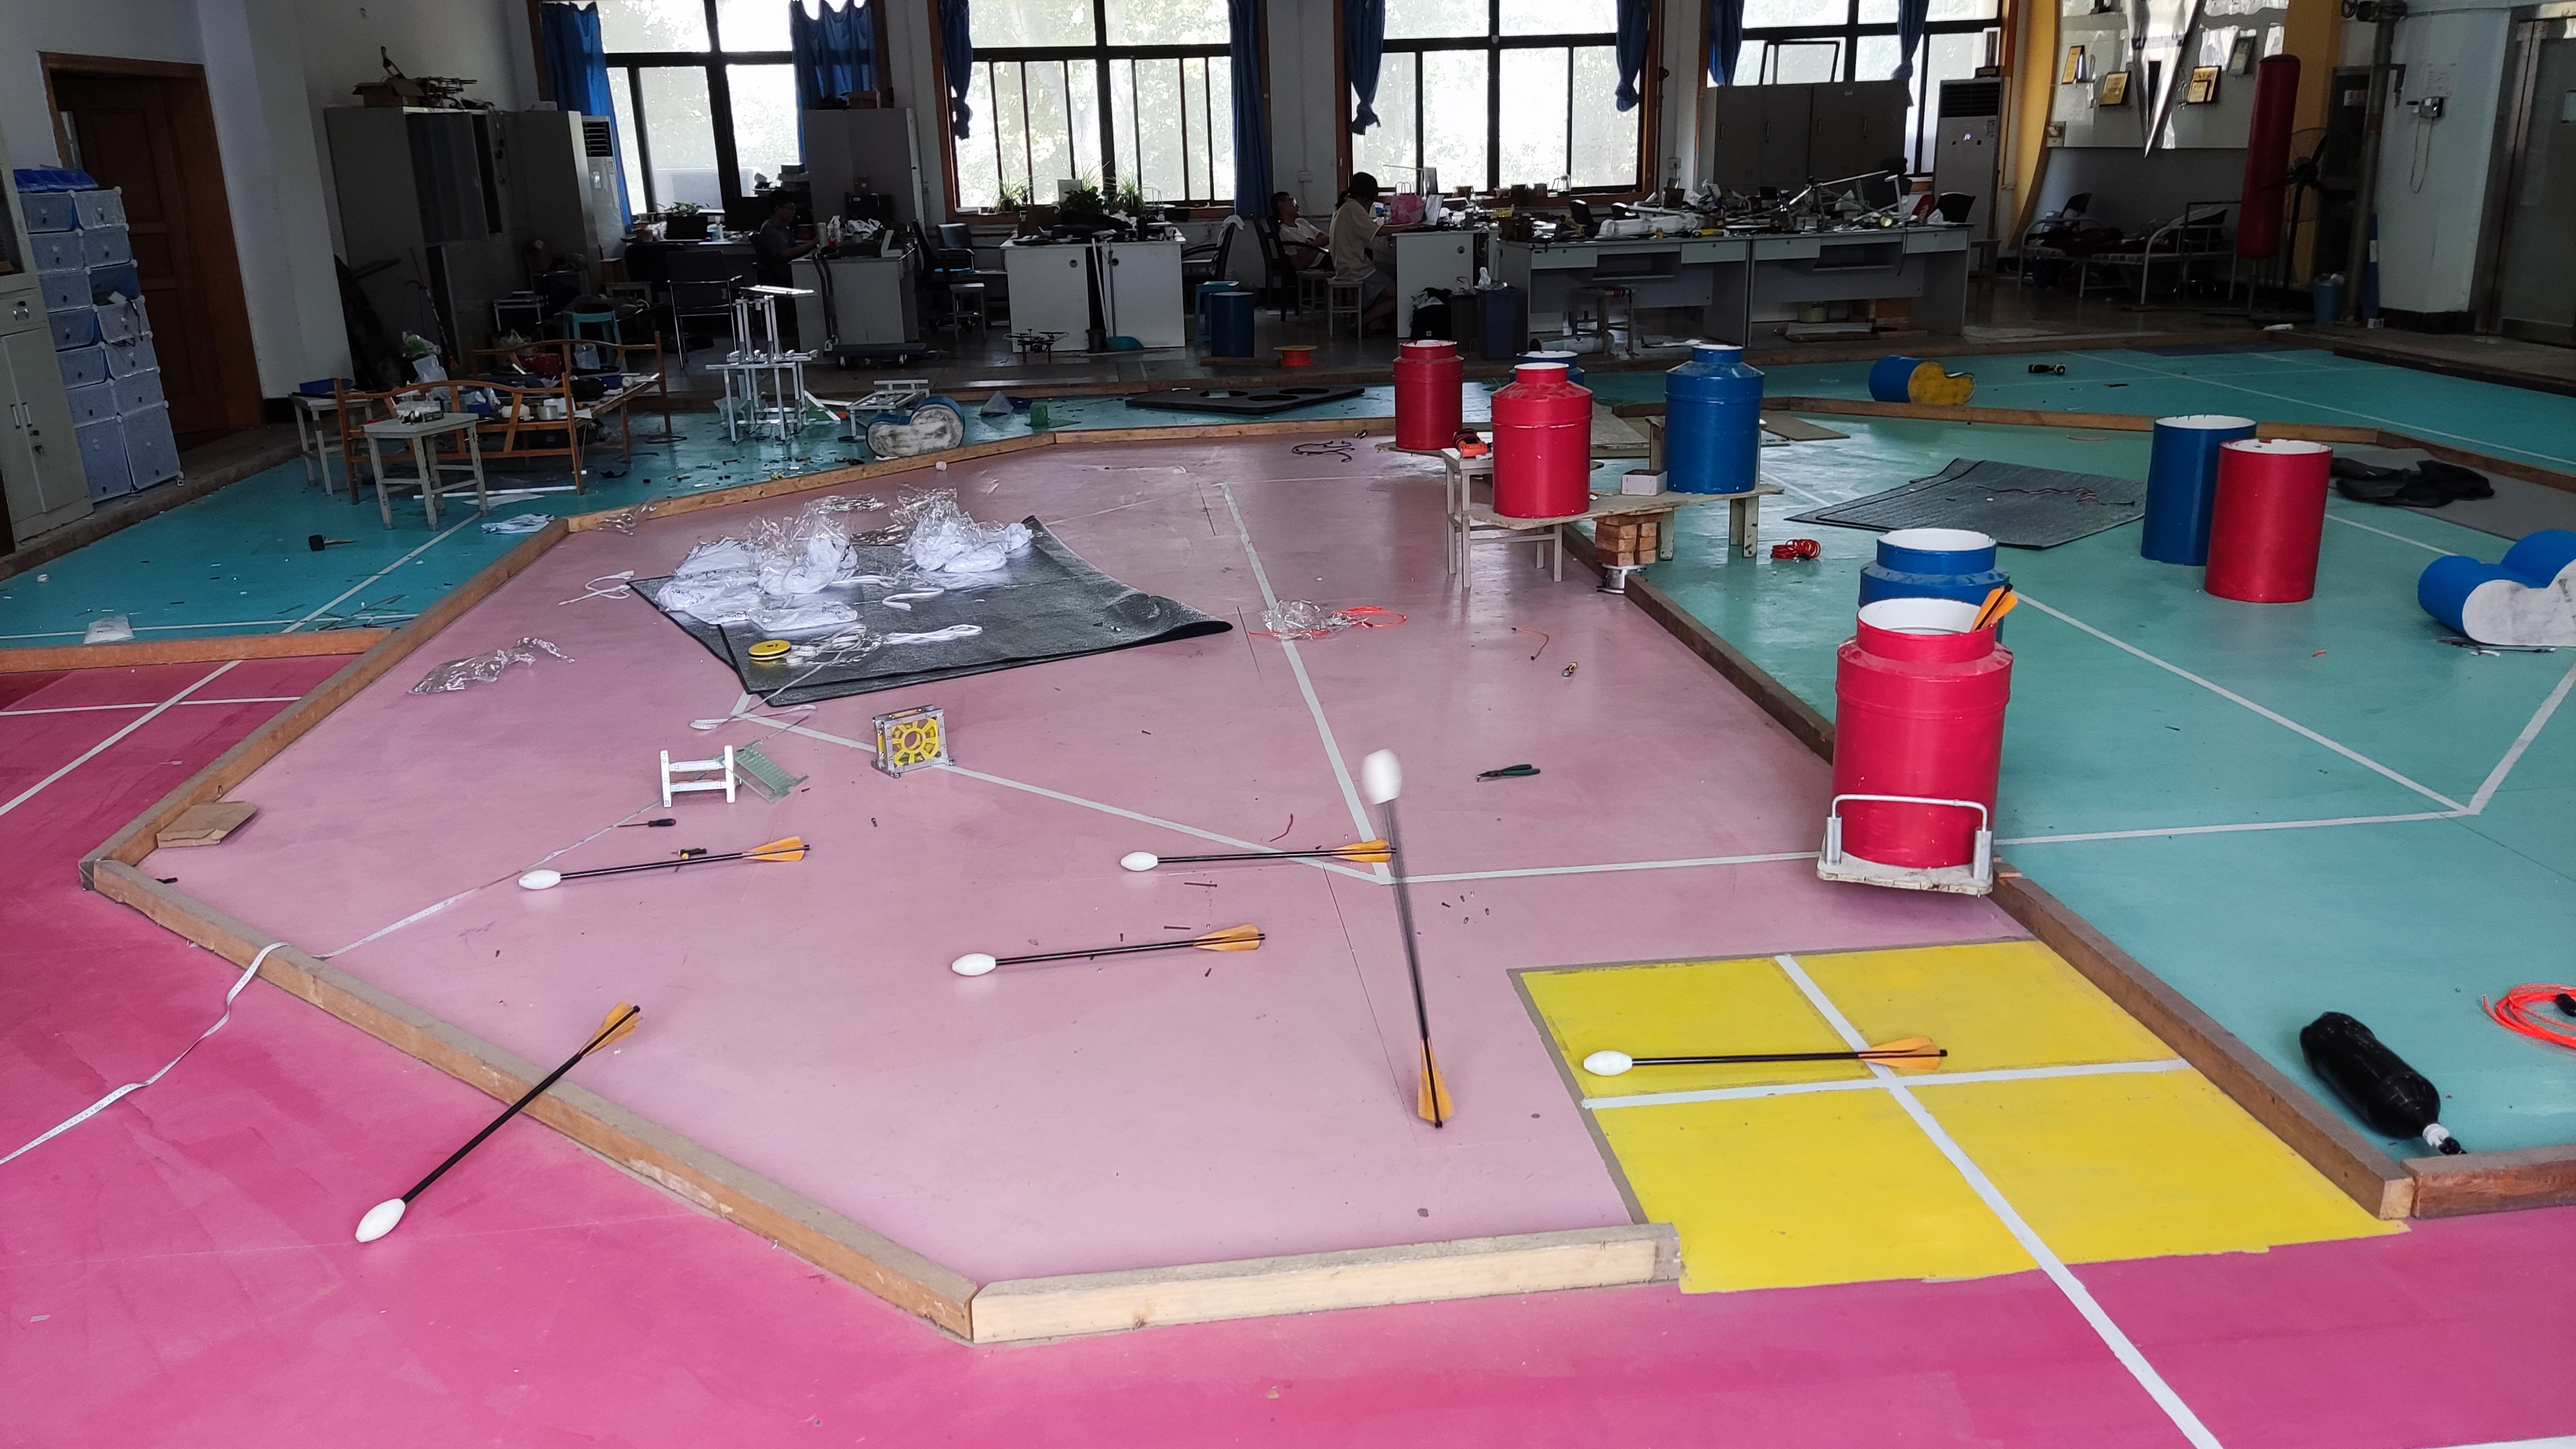arrow: (350, 1001, 644, 1247), (1350, 745, 1463, 1136), (947, 925, 1265, 987), (515, 833, 812, 892), (1573, 1042, 1953, 1083), (1115, 840, 1401, 879)
arrowFront: (1353, 745, 1412, 810), (352, 1189, 402, 1247), (1580, 1044, 1638, 1081), (950, 948, 1005, 975), (1116, 849, 1157, 874), (517, 870, 563, 892)
blueBucket: (2137, 410, 2256, 568), (1668, 343, 1764, 495)
redBucket: (1829, 600, 2008, 860), (2213, 432, 2325, 612), (1490, 359, 1598, 518), (1392, 338, 1461, 448)
